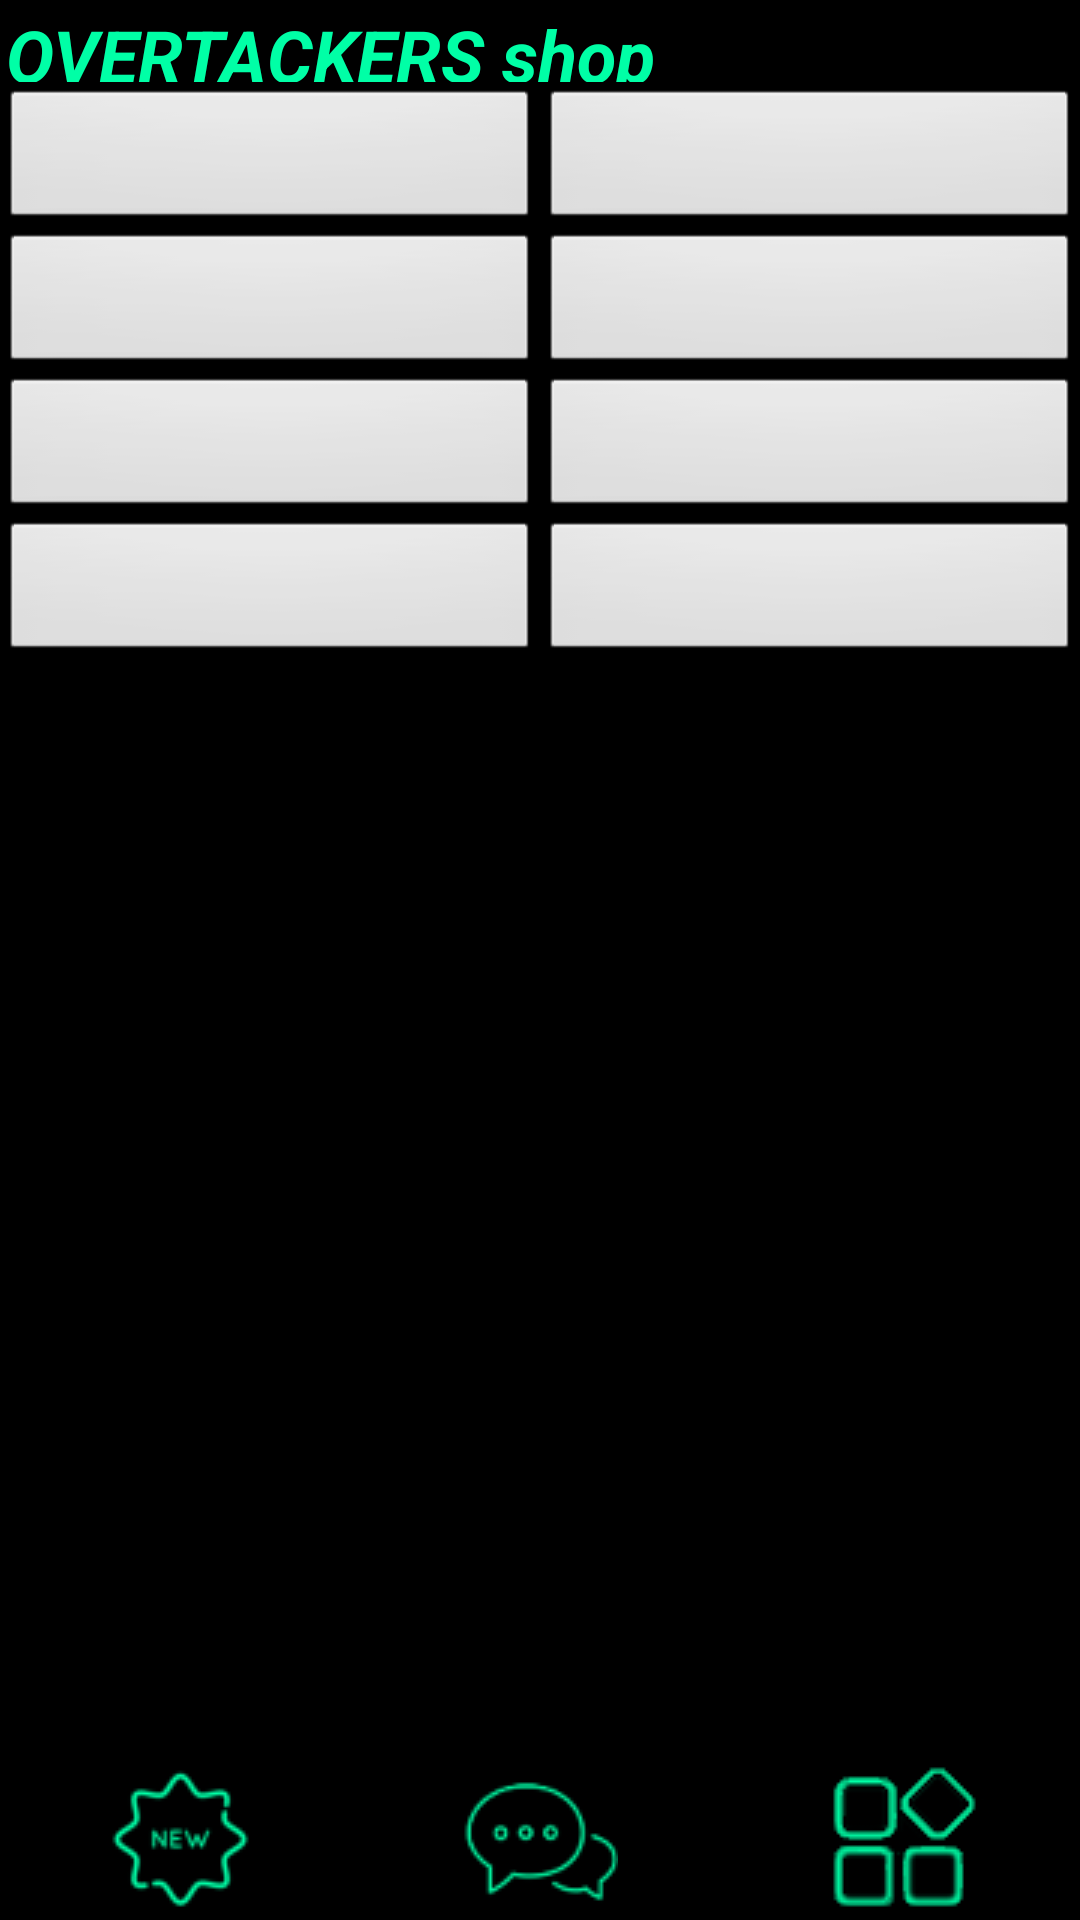

Named icons in this screenshot (1080 × 1920) and their bounding boxes, [x1, y1, x2, y2]:
chat: [464, 1782, 618, 1901]
services: [833, 1767, 976, 1907]
